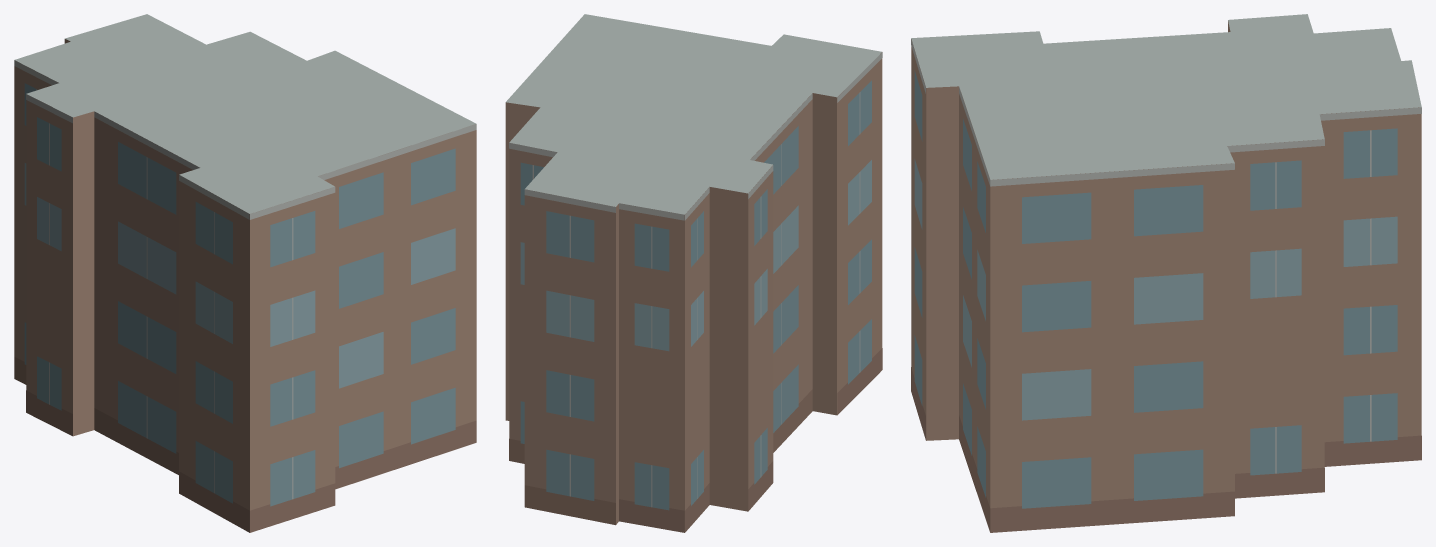
File: survey-upis-32757394.glb
3 renders of one model, left to right at view 1: azimuth 30°, elevation 25°; view 2: azimuth 150°, elevation 25°; view 3: azimuth 270°, elevation 25°, orthographic. The views are drawn at different scales.
Parts seen in each view (by area): view 1: survey-upis-32757394.tmp; view 2: survey-upis-32757394.tmp; view 3: survey-upis-32757394.tmp.
Part boxes in pixels (bbox=[...]): survey-upis-32757394.tmp: bbox=[14, 14, 476, 532]; survey-upis-32757394.tmp: bbox=[505, 14, 882, 532]; survey-upis-32757394.tmp: bbox=[911, 14, 1421, 532].
Bounding box in the file's own units: 13.12 × 13 × 17.06.
